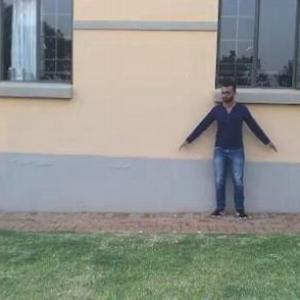land: (182, 80, 278, 228)
